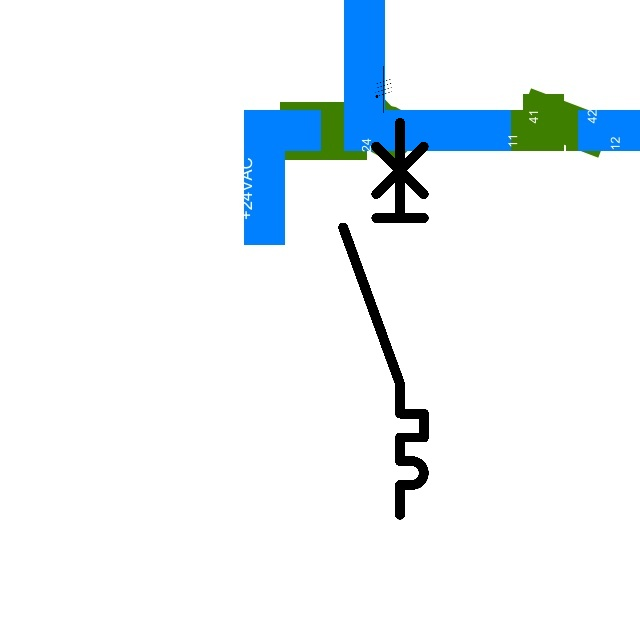interruptor_termomagnetico: (333, 112, 434, 525)
